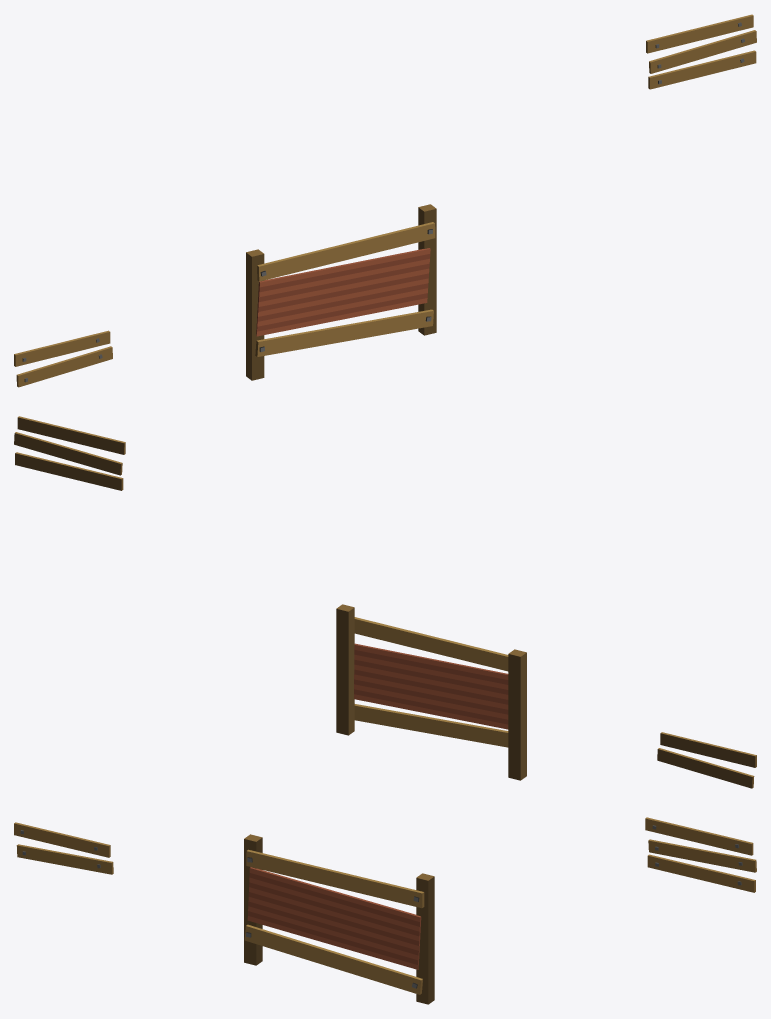
Rendered from SA_Bld_Motel_Damaged_Extras_01.gltf.
3 renders of one model, top to bottom at view 1: azimuth 30°, elevation 25°; view 2: azimuth 150°, elevation 25°; view 3: azimuth 330°, elevation 25°, orthographic.
Parts seen in each view (by area): view 1: SA_Bld_Motel_Damaged_Extras_01; view 2: SA_Bld_Motel_Damaged_Extras_01; view 3: SA_Bld_Motel_Damaged_Extras_01.
Boxes of the visible parts, x1=… form: SA_Bld_Motel_Damaged_Extras_01: x1=14, y1=14, x2=756, y2=387; SA_Bld_Motel_Damaged_Extras_01: x1=14, y1=416, x2=756, y2=788; SA_Bld_Motel_Damaged_Extras_01: x1=14, y1=817, x2=756, y2=1004.
Bounding box in the file's own units: 20.39 × 6.29 × 0.4577.
Materials: 1 (1 with a texture image).
